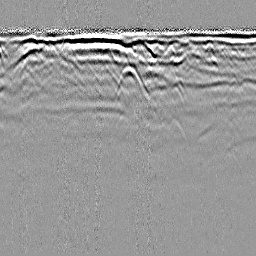cavity: (113, 62, 146, 96)
